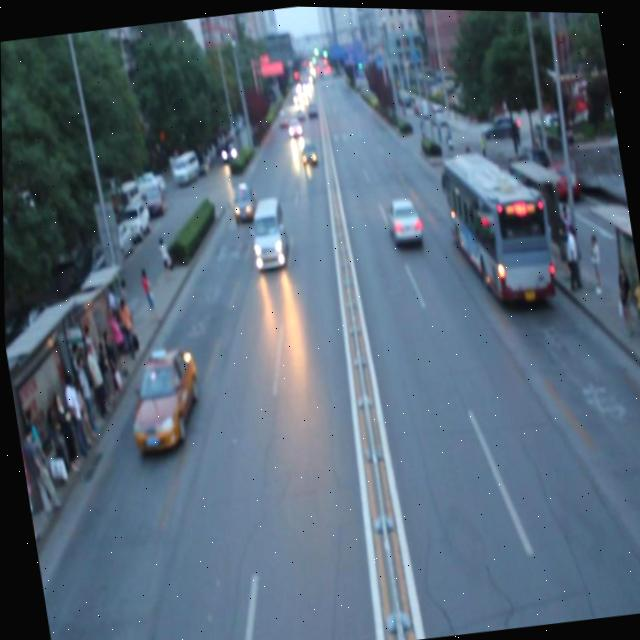car: (120, 342, 205, 455), (382, 191, 424, 246), (229, 176, 253, 220), (297, 137, 318, 168)
truck: (249, 195, 290, 271)
van: (439, 141, 558, 311)
